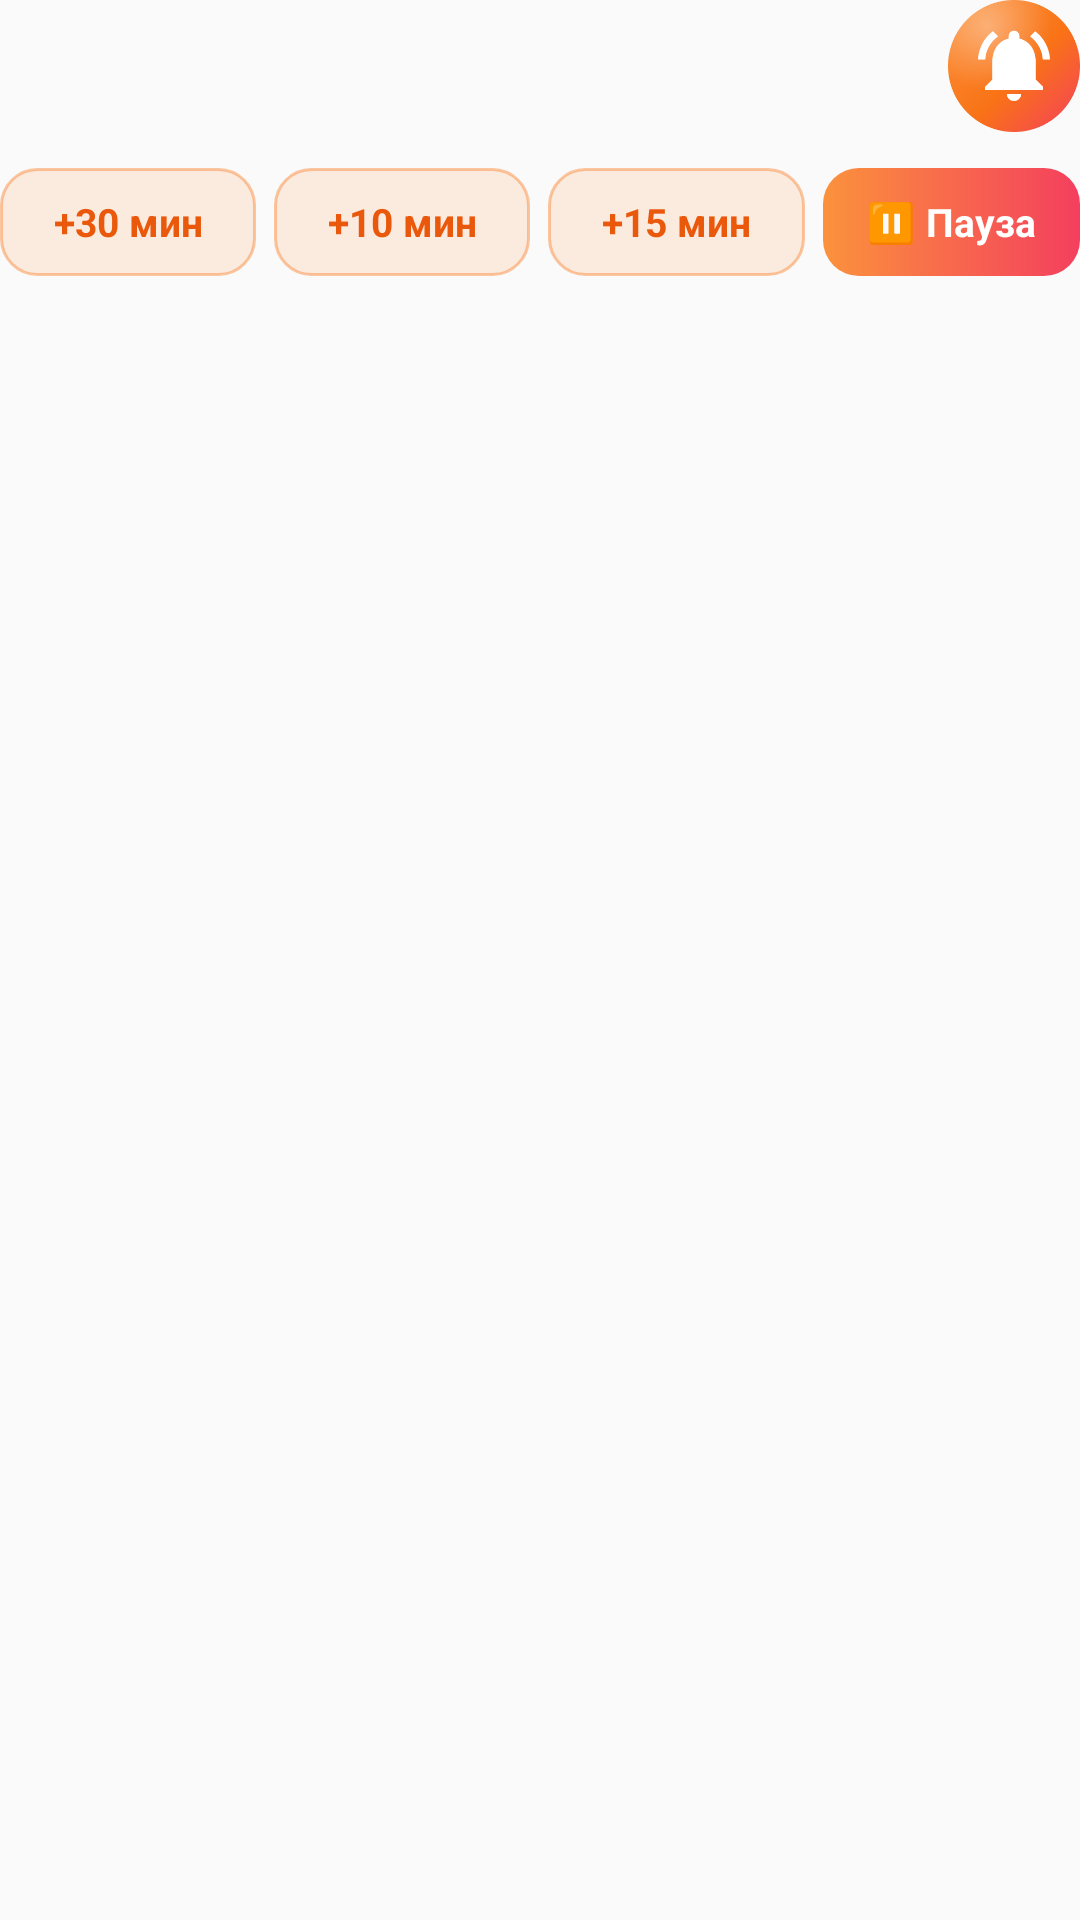

Icon bounding boxes for this 1080 × 1920 phone screenshot, format (x1, y1, x2, y2):
alarm: (948, 0, 1080, 132)
